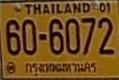0: (65, 17, 79, 54), (22, 19, 36, 54)
2: (97, 17, 114, 54)
6: (5, 20, 20, 54), (49, 18, 63, 54)
7: (80, 17, 95, 54)
BKK: (24, 60, 98, 74)
